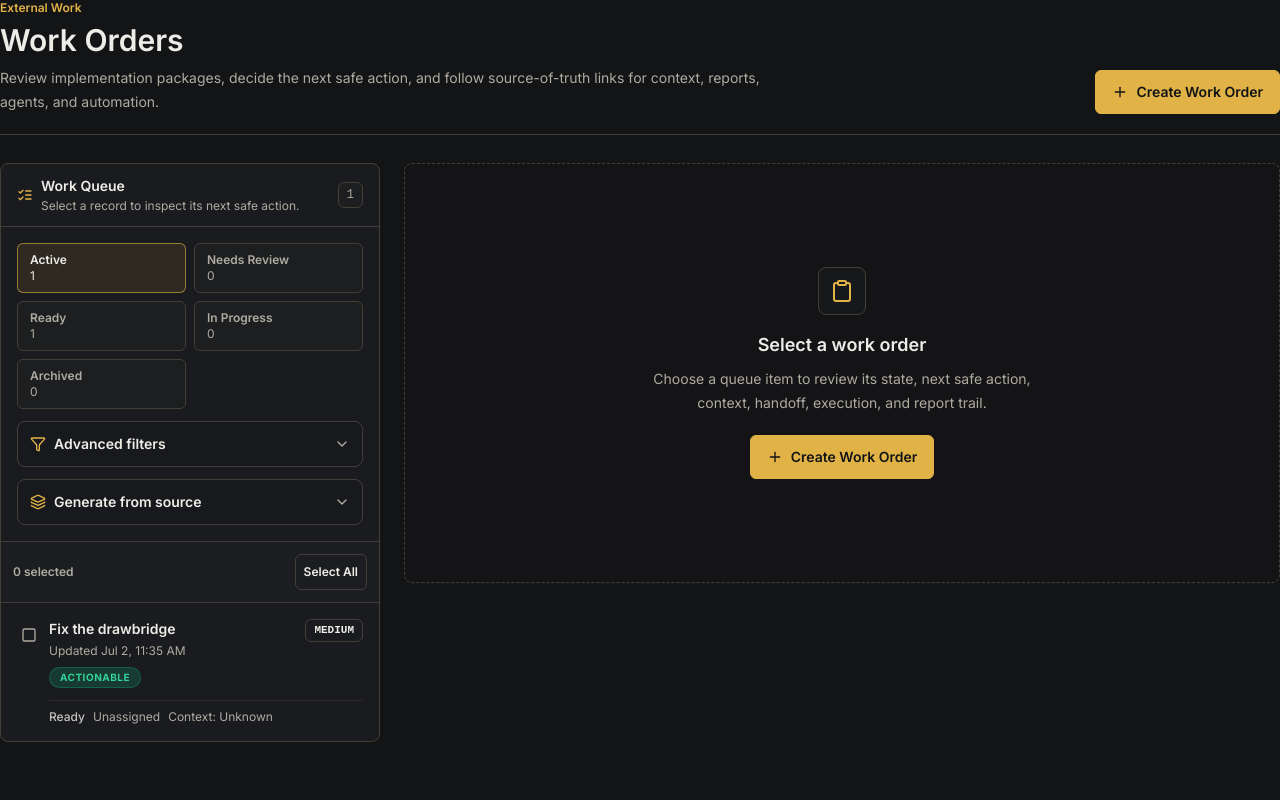
Test: WorkOrdersPage — Project Context (M17E-2) › shows the Base Context Used panel with a stale warning and risk zones on patch review
The width and height of the screenshot is (1280, 800).
Step 1. Click the heading "Fix the drawbridge" → (117, 629), box [49,619,186,639]
(page scrolled)
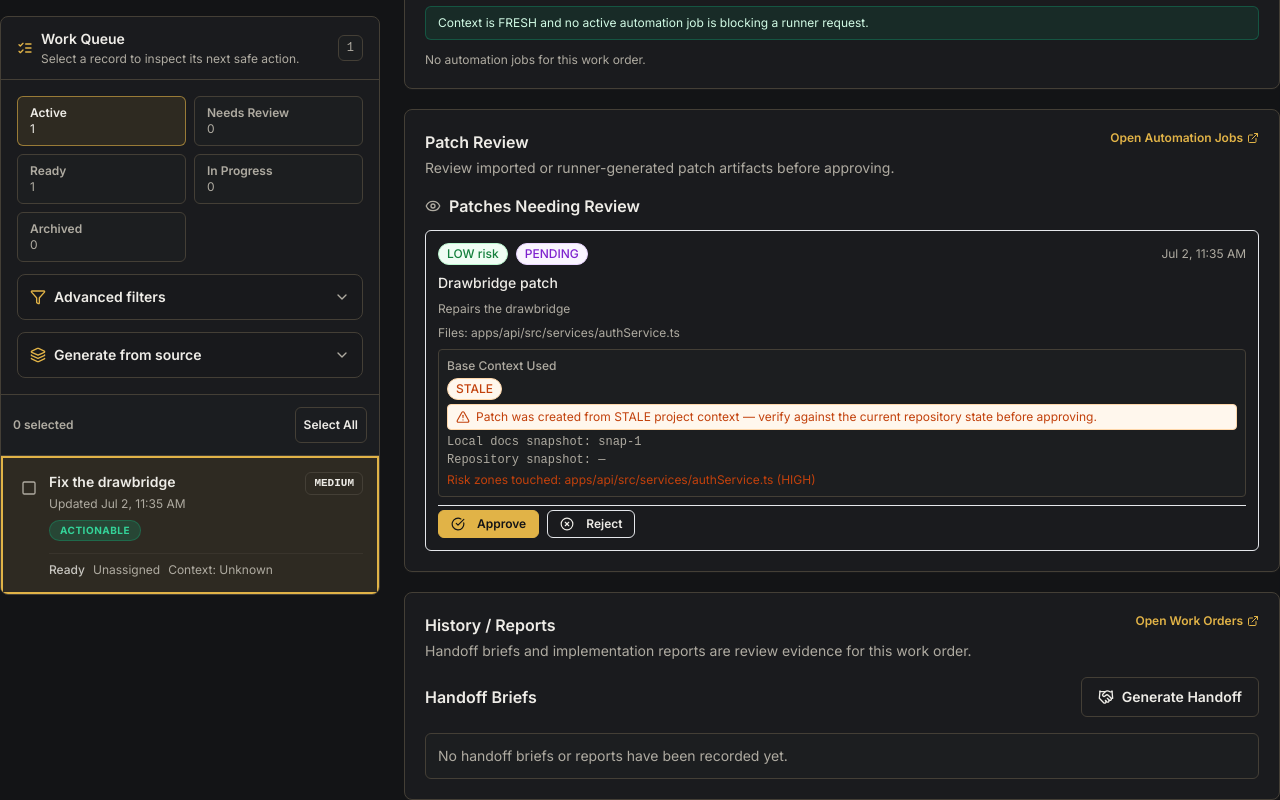
Expected: the text "Base Context Used" is shown, [447,358,556,373]
Expected: the text "Patch was created from STALE project context" is shown, [447,404,1237,430]
Expected: the text "Local docs snapshot: snap-1" is shown, [447,435,642,449]
